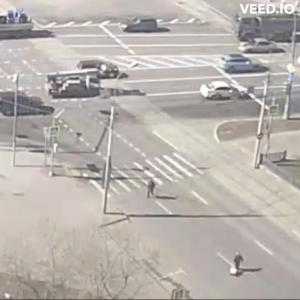car: (235, 17, 300, 41), (45, 73, 107, 98), (1, 1, 35, 44), (1, 91, 52, 115), (220, 54, 268, 75), (200, 81, 242, 102), (77, 59, 124, 76), (119, 16, 160, 35), (240, 40, 288, 56)
